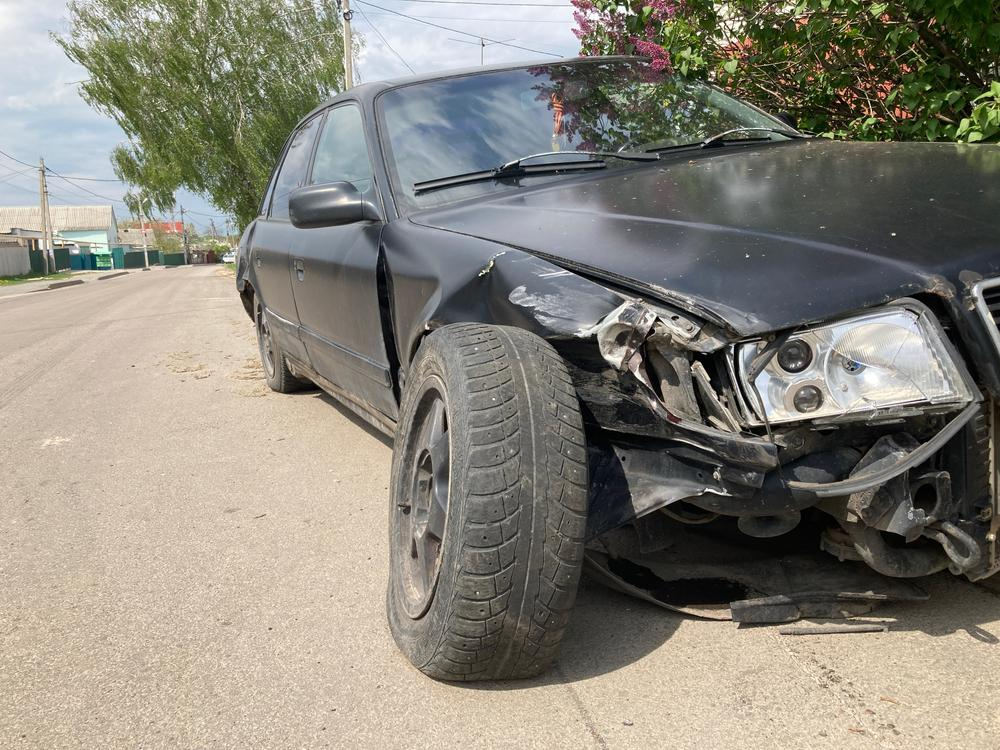dent: (385, 234, 539, 358)
lamp broken: (739, 302, 981, 426)
scratch: (506, 265, 589, 334)
tire flat: (385, 323, 587, 680)
